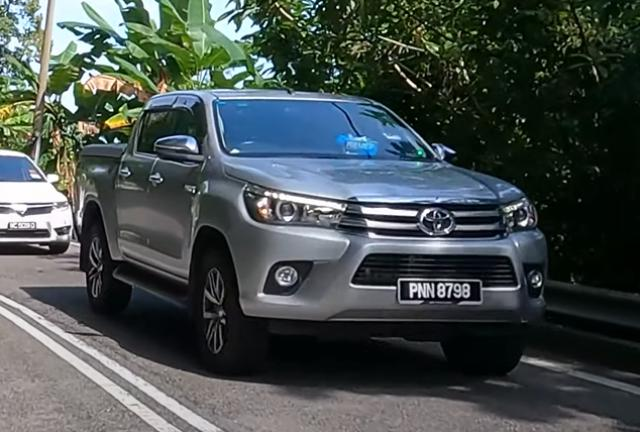License_Plate: (397, 277, 484, 306)
car: (72, 88, 550, 376)
